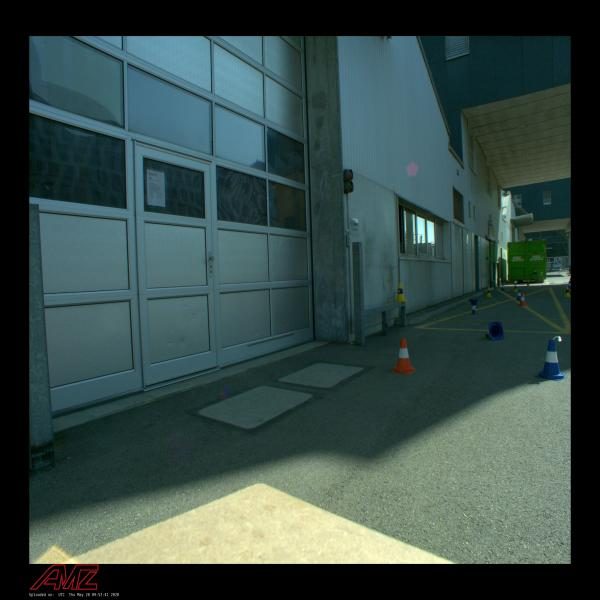blue_cone: (534, 339, 568, 381), (486, 321, 504, 340), (468, 299, 478, 315), (516, 290, 523, 300), (501, 283, 505, 291), (514, 279, 517, 285), (568, 281, 570, 289), (568, 278, 570, 284)
orange_cone: (392, 338, 416, 374), (518, 293, 527, 306)
yellow_cone: (394, 283, 406, 302), (564, 286, 570, 298), (486, 287, 492, 297), (513, 284, 518, 293), (526, 280, 530, 287)
